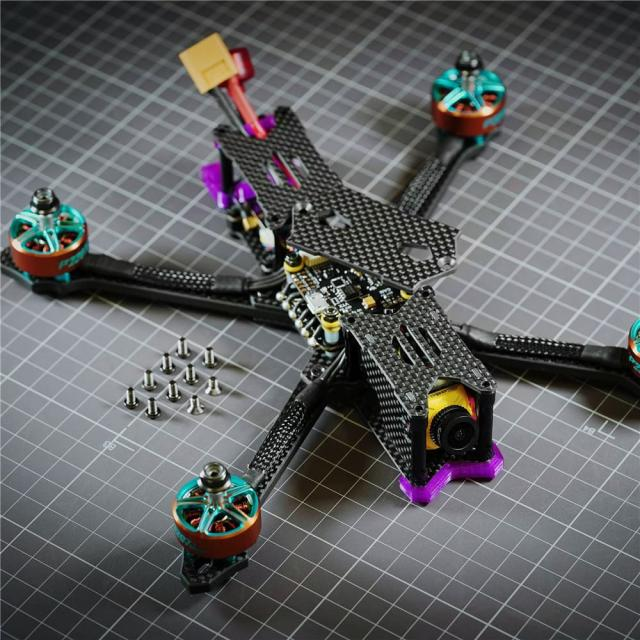drone: (0, 55, 640, 587)
